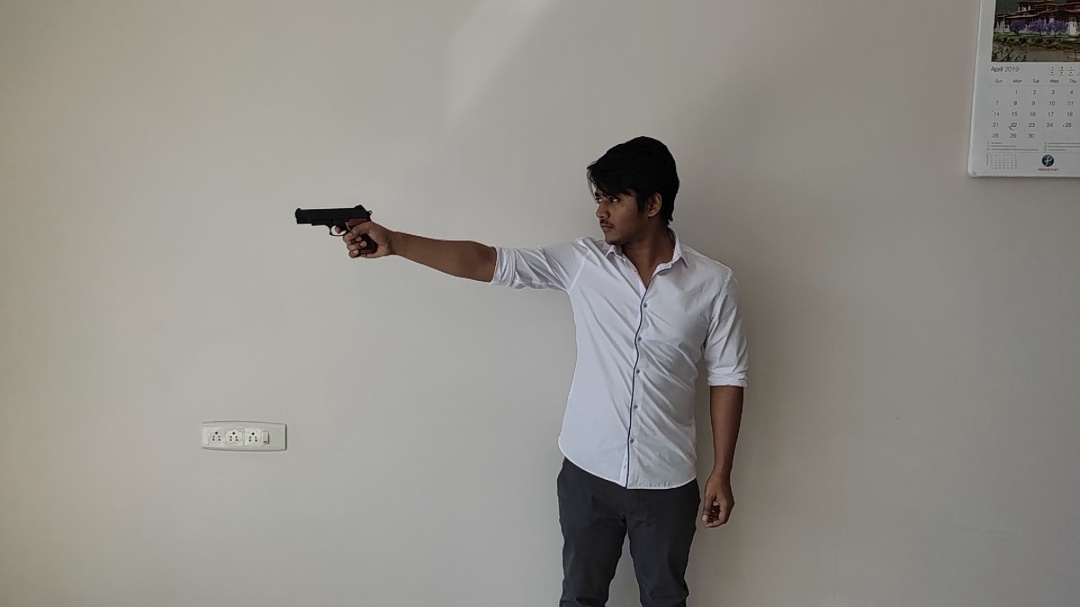gun: (295, 205, 378, 250)
